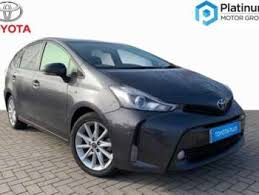Toyota: (5, 36, 244, 158)
